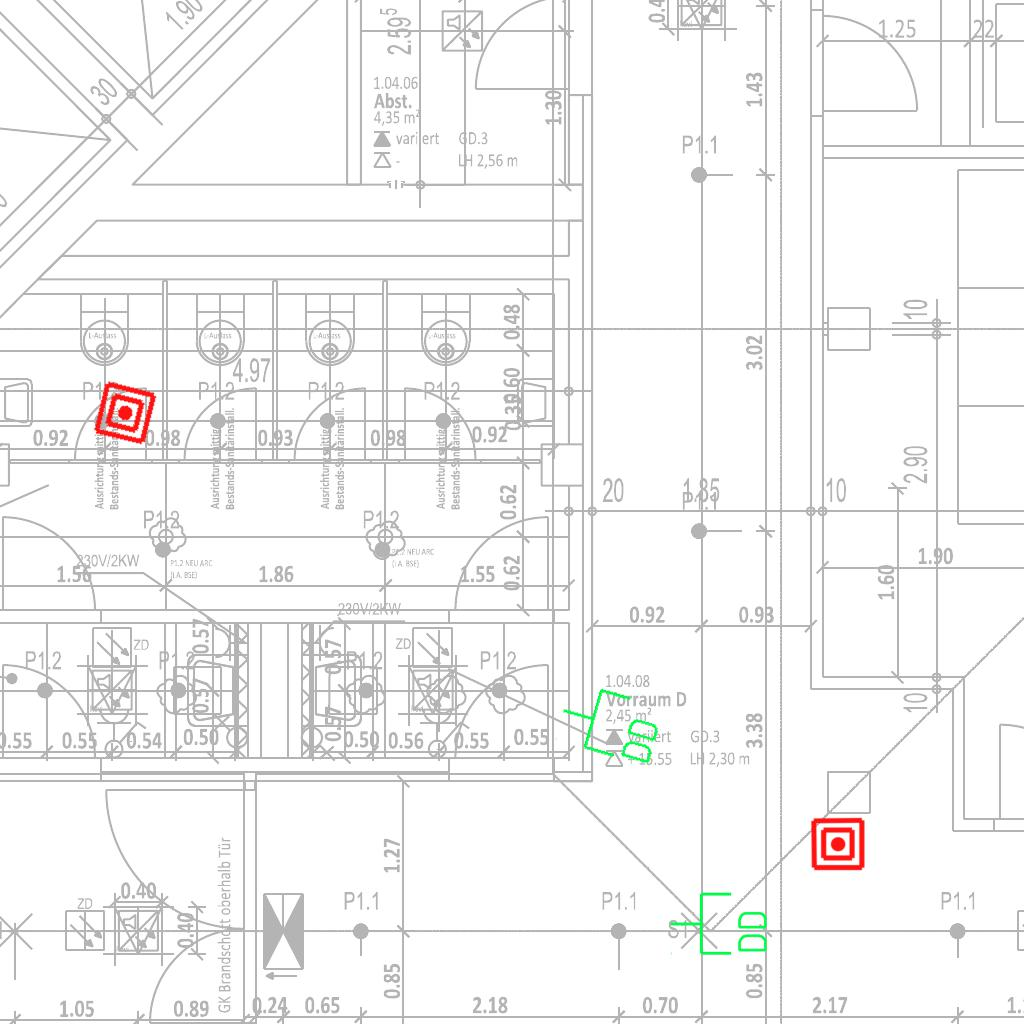Datenanschluss_zweifach: (551, 677, 670, 772), (668, 890, 771, 959)
NAM-Nichtautomatischer_Melder: (91, 379, 159, 447), (810, 816, 866, 872)
